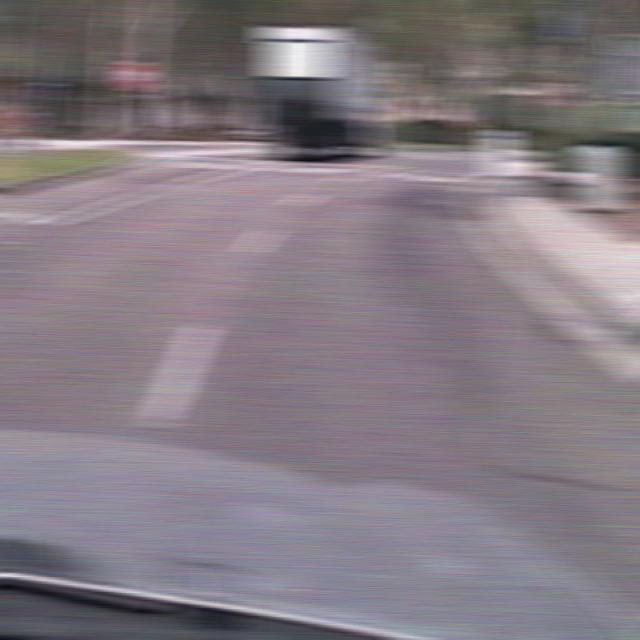stop_sign: (539, 71, 576, 105), (116, 60, 150, 92)
